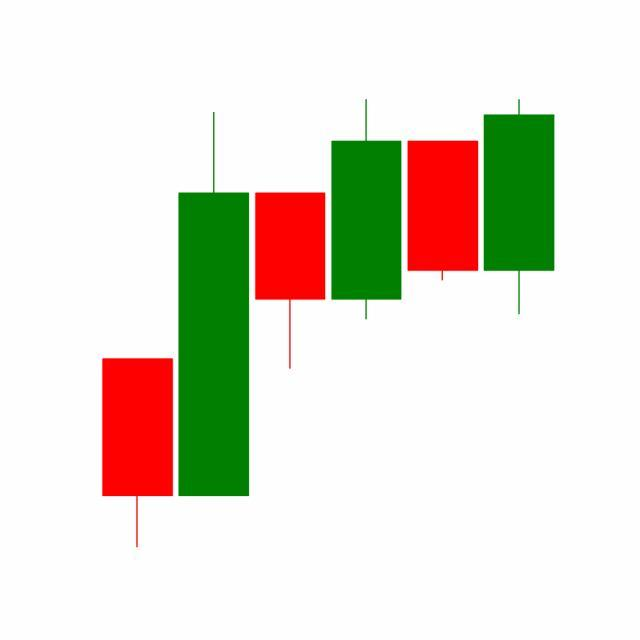Marubozu: (404, 140, 482, 283)
